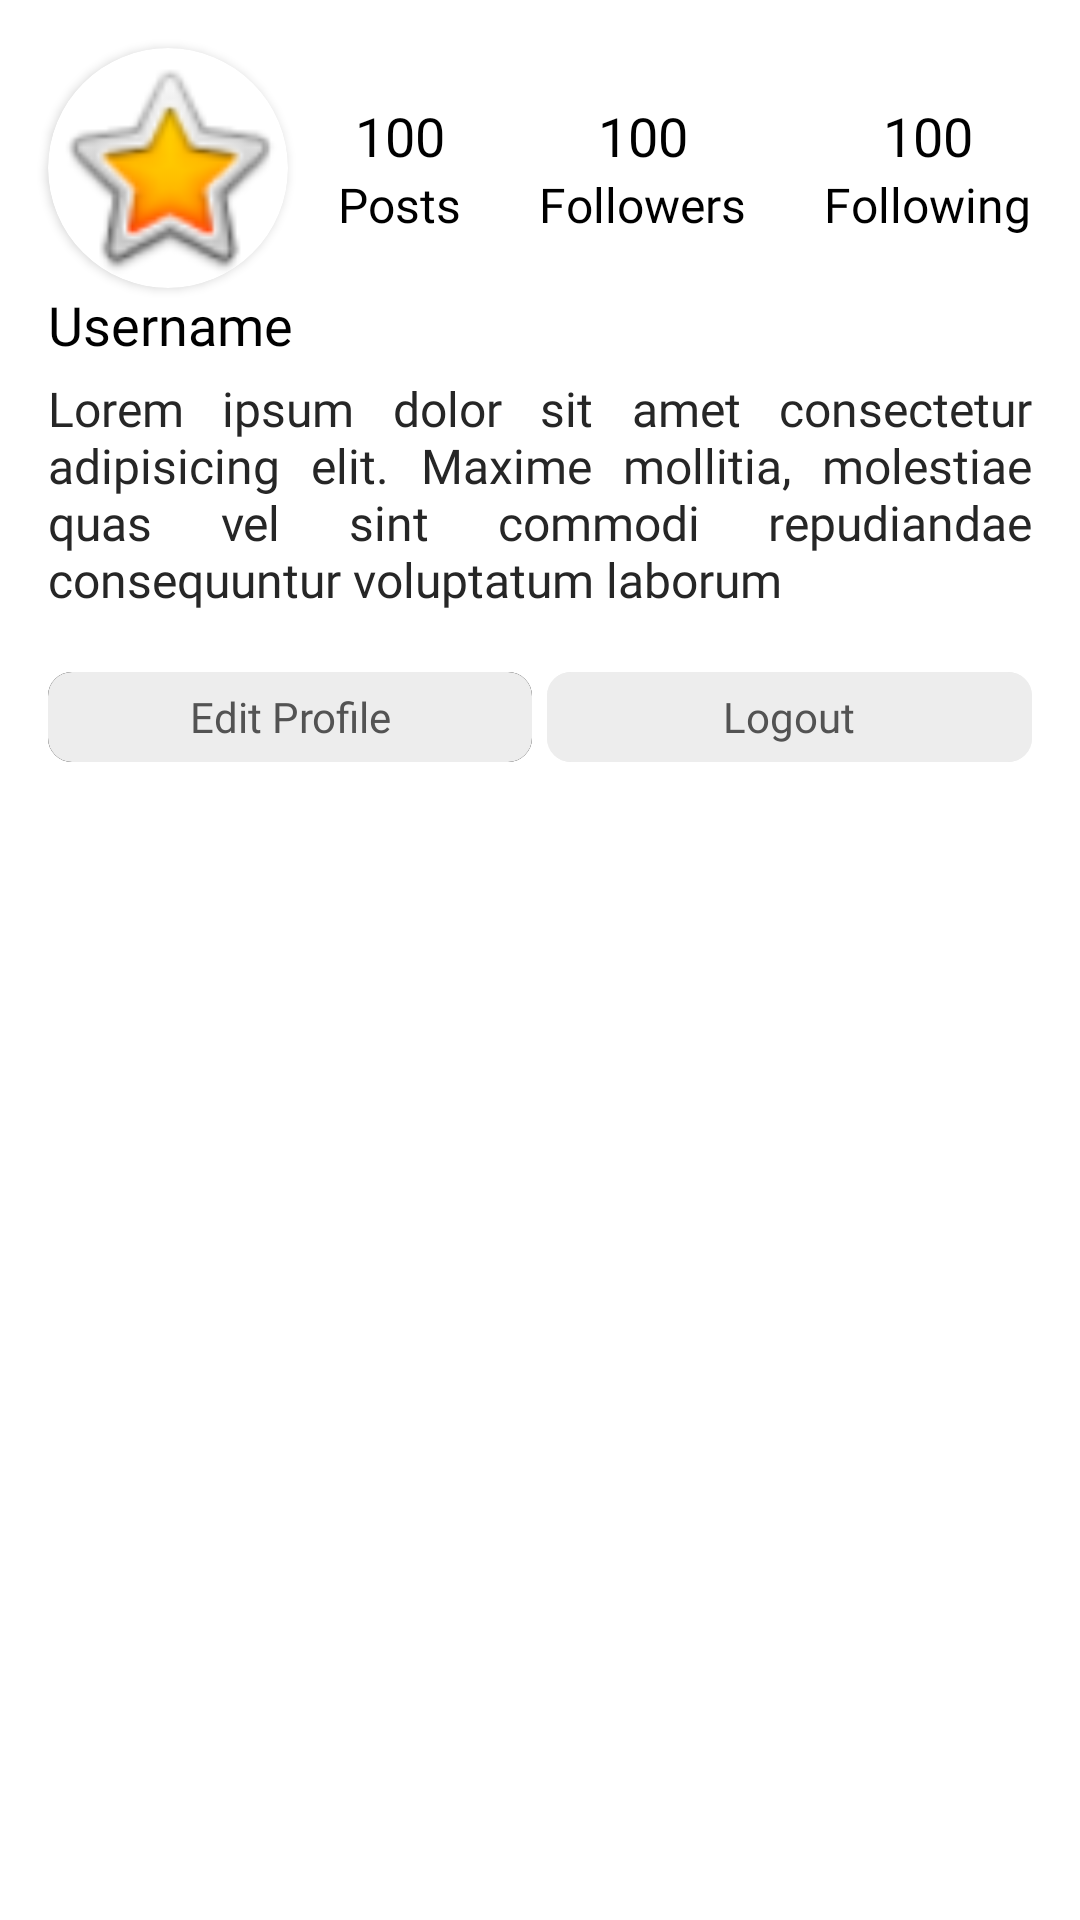

Locate icon controls on the screen. Image size 1080px x 1920px, boxes as (x1, y1, x2, y2).
star on: (48, 72, 270, 268)
